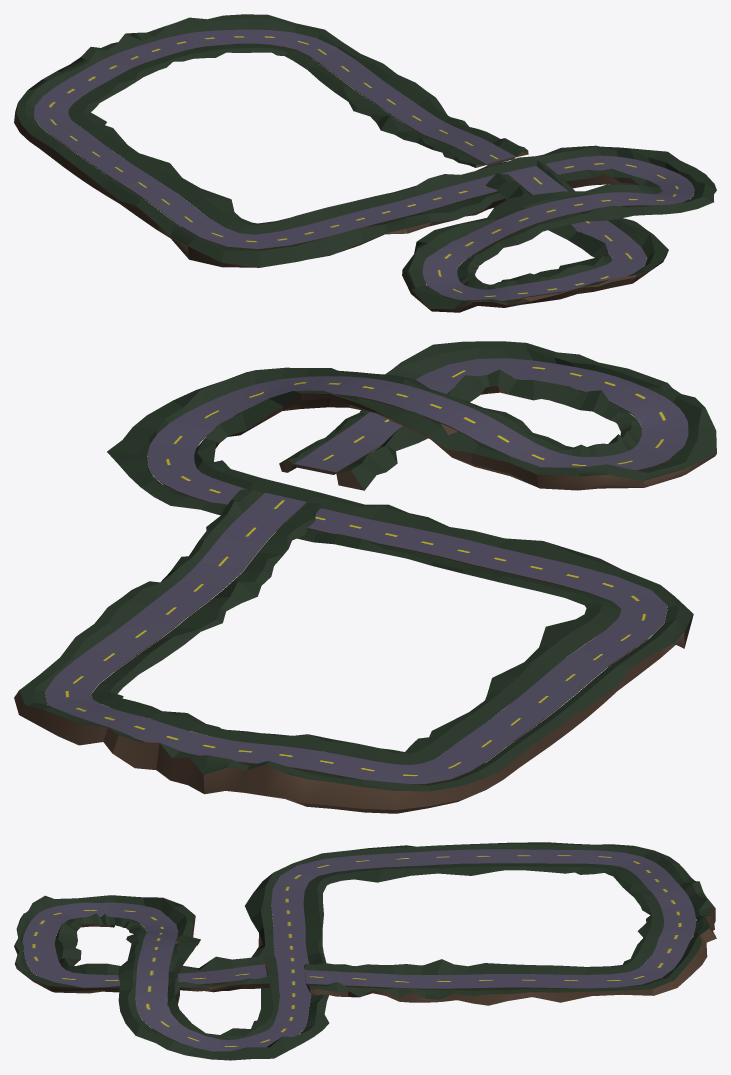
File: Track_003_Combined_001_withsides.fbx
The picture shows the model from 3 angles, top to bottom: view 1: azimuth 30°, elevation 25°; view 2: azimuth 150°, elevation 25°; view 3: azimuth 270°, elevation 25°; orthographic projection. The views are drawn at different scales.
Visible parts, largest first — view 1: Track_003_Combined_001_withsides1; view 2: Track_003_Combined_001_withsides1; view 3: Track_003_Combined_001_withsides1.
Boxes of the visible parts, x1,y1,x2,y2 form: Track_003_Combined_001_withsides1: [14, 14, 716, 312]; Track_003_Combined_001_withsides1: [14, 341, 716, 813]; Track_003_Combined_001_withsides1: [14, 842, 716, 1060].
Size of the model in its own units: 40606 by 4168 by 56649.
